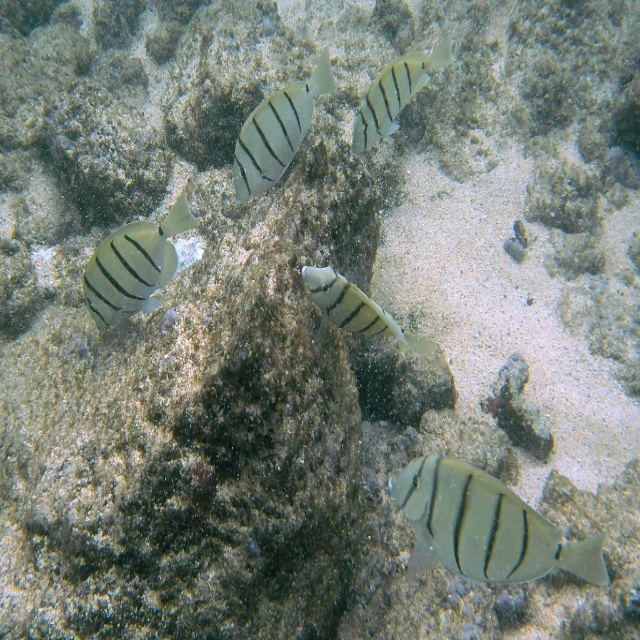Fish: (388, 451, 610, 588), (83, 182, 198, 337), (233, 46, 338, 205), (298, 264, 437, 359), (349, 37, 453, 155)
